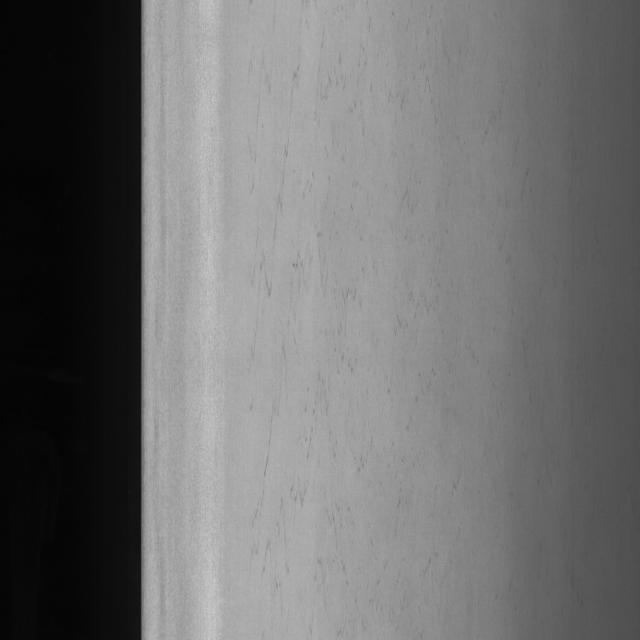inclusion: (242, 40, 423, 561)
